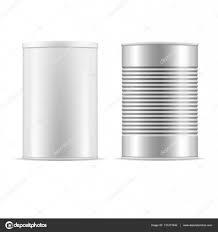Tin: (12, 33, 108, 174), (118, 29, 207, 173)
